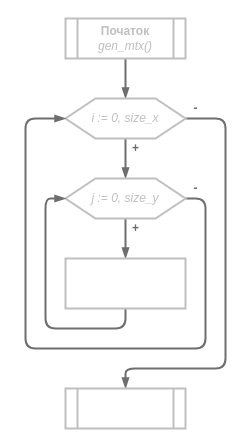
This 251x446 diagram has some shape labels left out. The shapes that lost their labels are listed below. From the top down, each one's centre as x and y in pixels, then its label:
the point at 125,283: *(*(matrix + i) + j) = rand_double (range, precision);
the point at 125,408: Кінець gen_mtx ()
